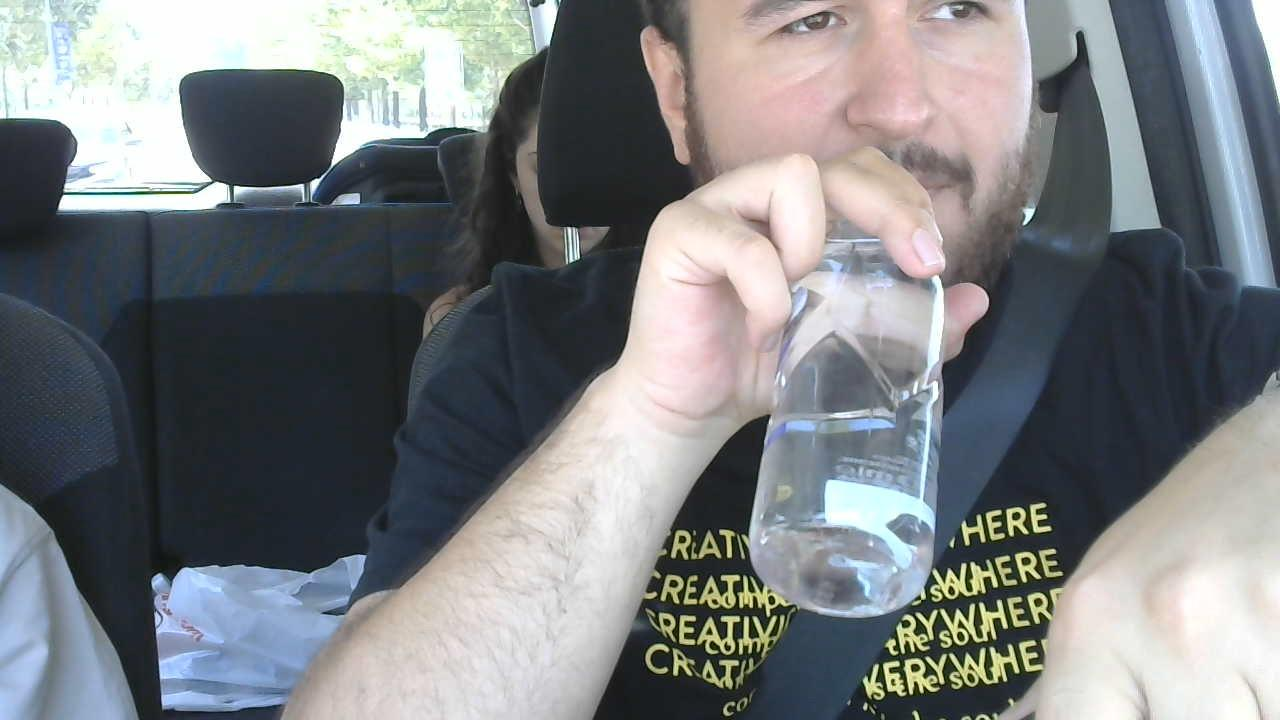Drinking: (638, 0, 1032, 617)
